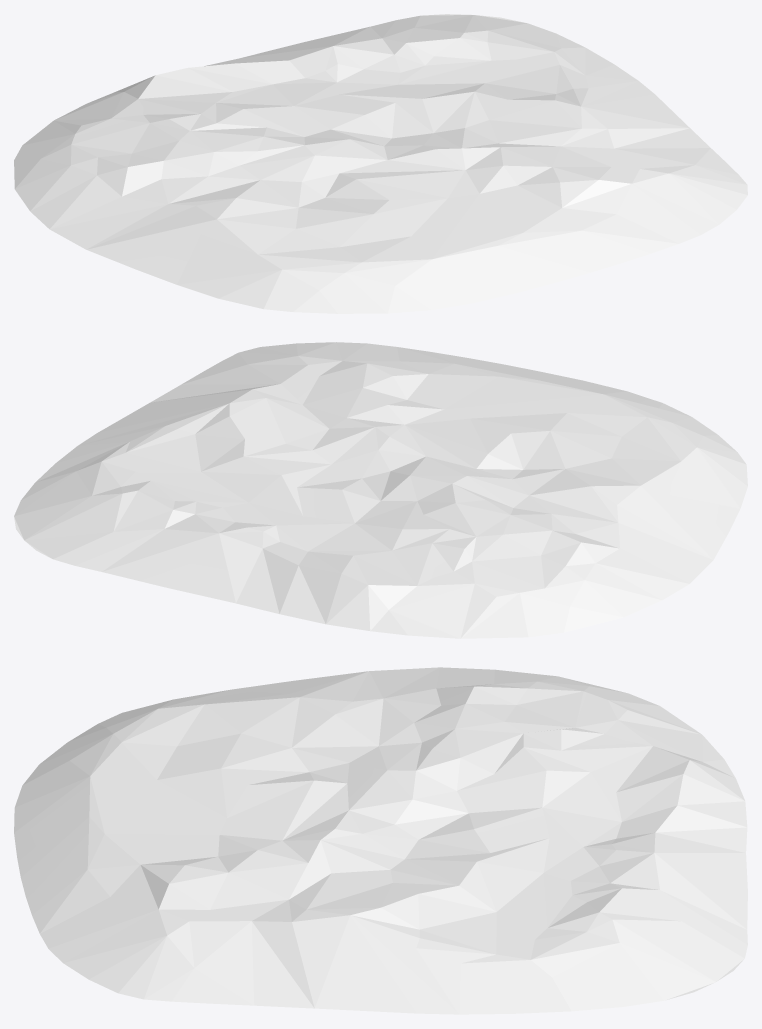
The model's file is land_004.fbx.
3 renders of one model, top to bottom at view 1: azimuth 30°, elevation 25°; view 2: azimuth 150°, elevation 25°; view 3: azimuth 270°, elevation 25°, orthographic. The views are drawn at different scales.
Visible parts, largest first — view 1: land_004; view 2: land_004; view 3: land_004.
Part boxes in pixels (x1,y1,x2,y2): land_004: (14,14,747,313); land_004: (14,342,747,638); land_004: (14,667,747,1014).
Size of the model in its own units: 4402 by 3977 by 249.
